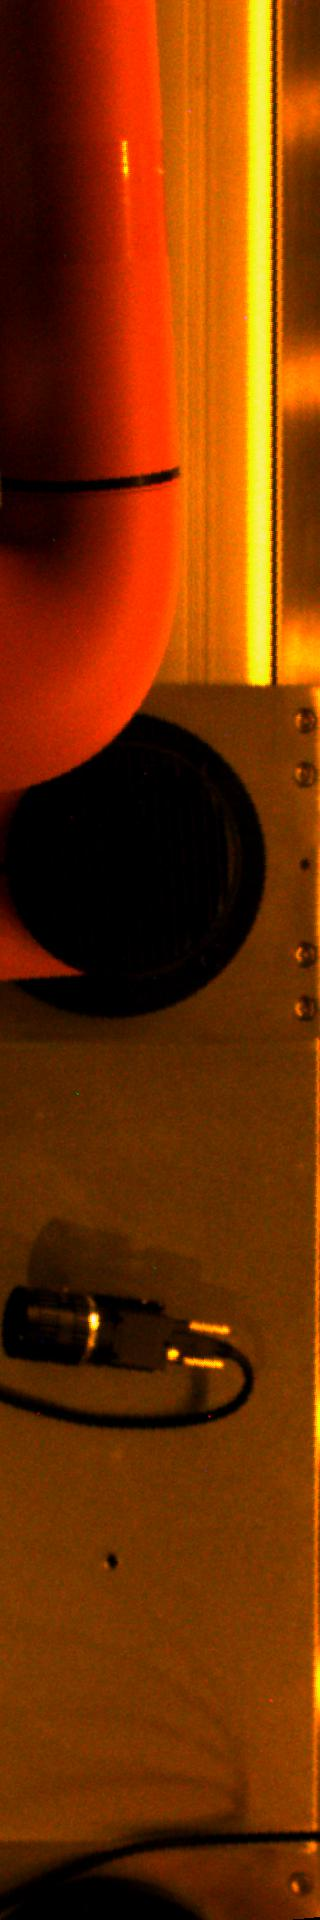keyPoint_2: (97, 1547, 128, 1576)
